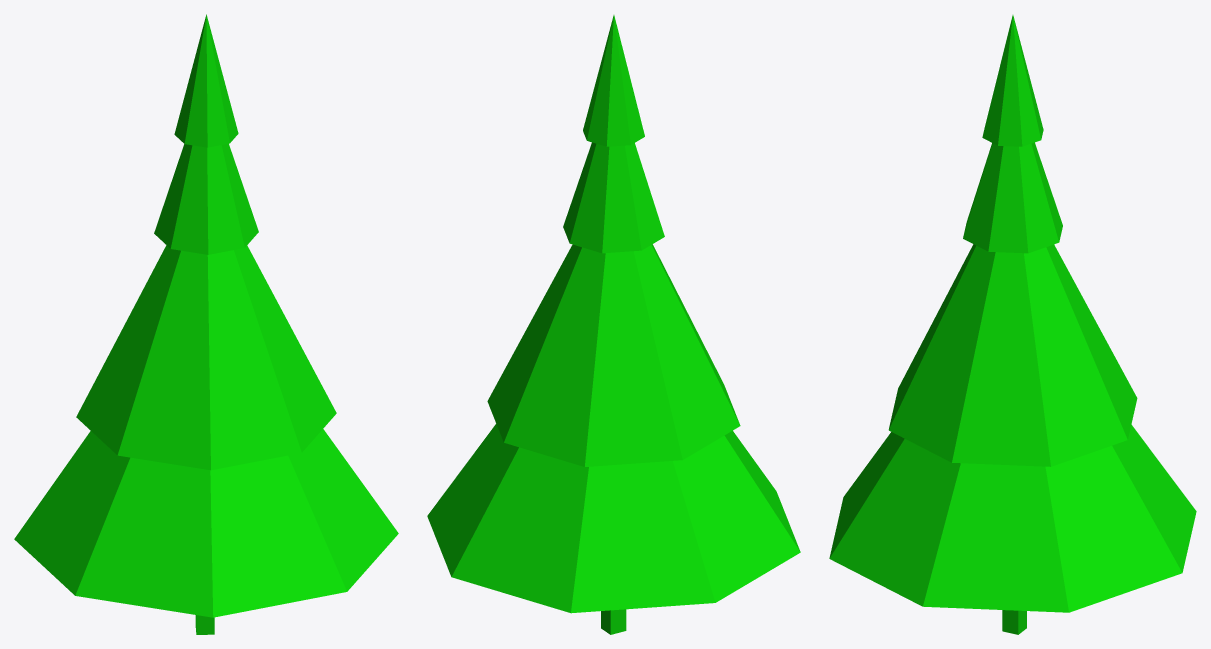
Rendered from tree.gltf.
3 views of the same model, side by side, from view 1: azimuth 30°, elevation 25°; view 2: azimuth 150°, elevation 25°; view 3: azimuth 270°, elevation 25° (orthographic).
Parts seen in each view (by area): view 1: element; view 2: element; view 3: element.
Part boxes in pixels (x1=…): element: x1=14, y1=14, x2=398, y2=634; element: x1=427, y1=15, x2=800, y2=634; element: x1=829, y1=15, x2=1196, y2=634.
Size of the model in its own units: 6.04 by 11.18 by 6.04.
